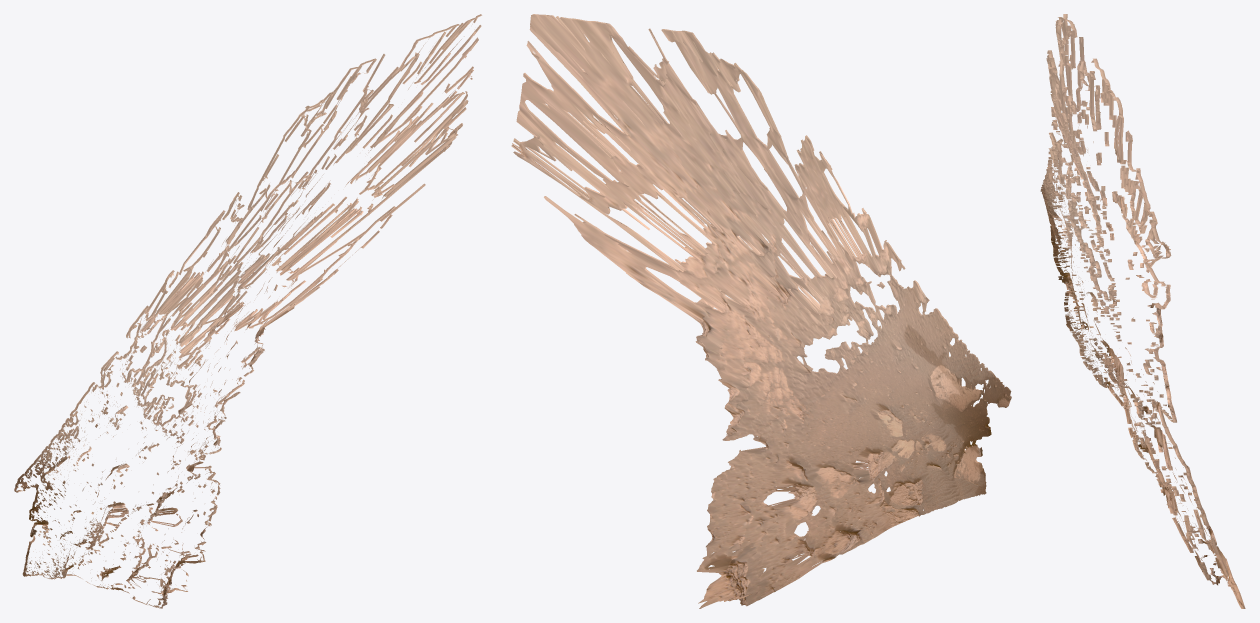
3 views of the same model, side by side, from view 1: azimuth 30°, elevation 25°; view 2: azimuth 150°, elevation 25°; view 3: azimuth 270°, elevation 25° (orthographic). The views are drawn at different scales.
Bounding box in the file's own units: 15.59 × 16.71 × 4.83.
1 material, 1 textured.
